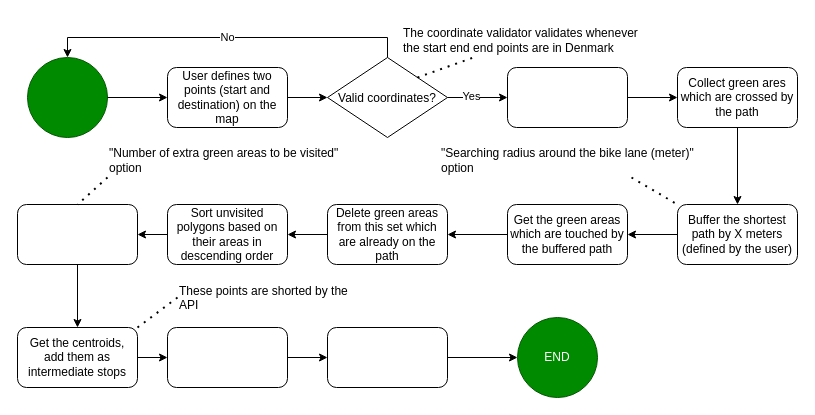
The diagram is 815 pixels wide and 415 high, and some of its shapes have lost their labels. Each missing label, with the centre of its shape:
"Choose the top X biggest areas (defined by the user)" goes at point (77, 234).
"Get shortest path between the two points using API" goes at point (567, 97).
"Search for shortest path" goes at point (227, 357).
"START" goes at point (67, 97).
"Visualize on the map and add some statistics" goes at point (387, 357).
